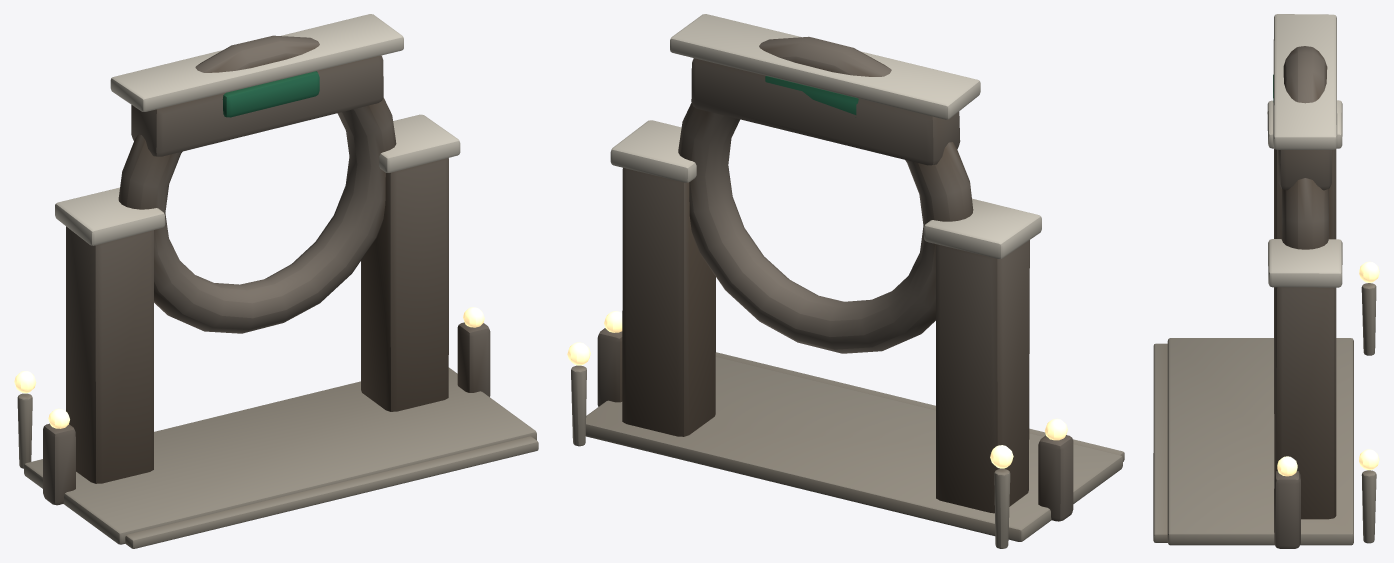
3 renders of one model, left to right at view 1: azimuth 30°, elevation 25°; view 2: azimuth 150°, elevation 25°; view 3: azimuth 270°, elevation 25°, orthographic. The views are drawn at different scales.
Visible parts, largest first — view 1: gate_f226bd1b; view 2: gate_f226bd1b; view 3: gate_f226bd1b.
Boxes of the visible parts, left/top/right/bottom form: gate_f226bd1b: left=14, top=14, right=538, bottom=548; gate_f226bd1b: left=567, top=14, right=1124, bottom=548; gate_f226bd1b: left=1153, top=14, right=1379, bottom=548.
Bounding box in the file's own units: 5.5 × 4.81 × 2.55.
